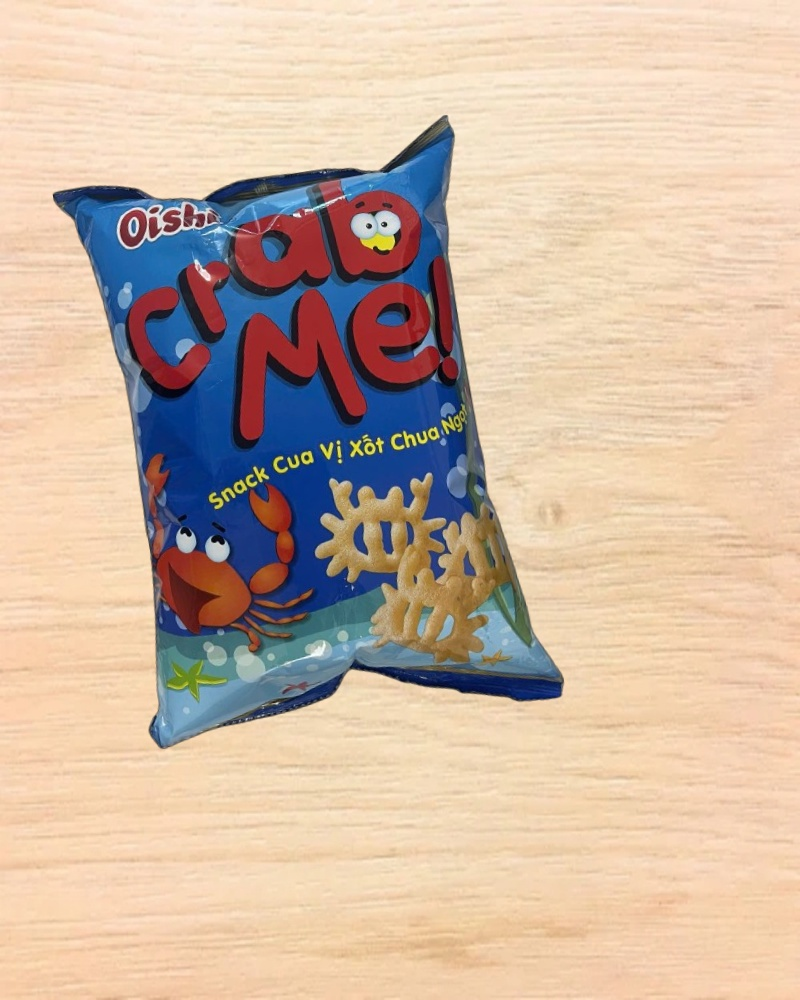Snack chay: (52, 113, 567, 771)
